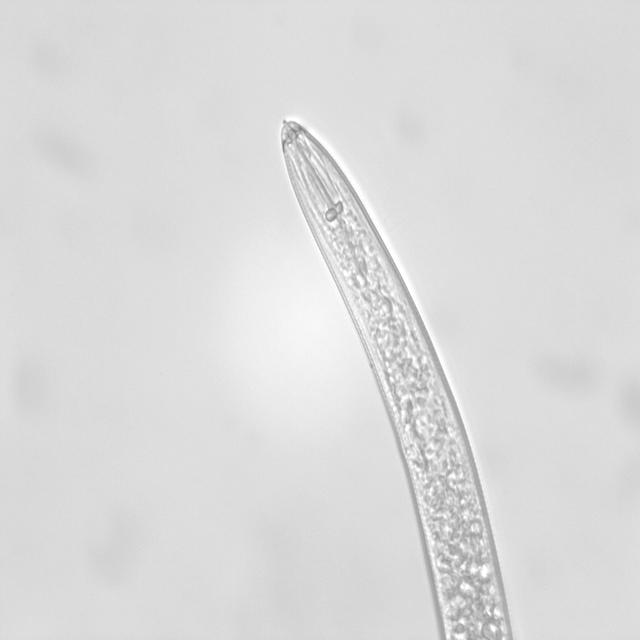Helicotylenchus: (270, 111, 533, 640)
